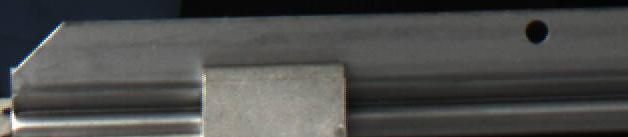cut: (6, 15, 186, 137)
holes: (523, 18, 549, 43)
